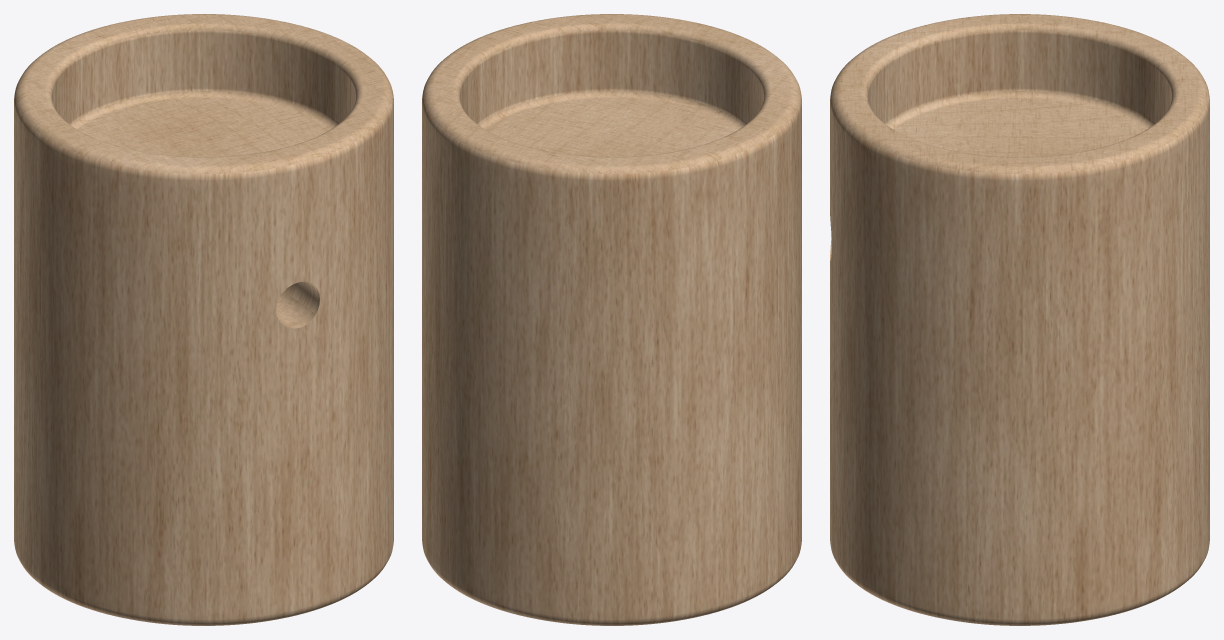
Rendered from rook-white-hd.glb.
3 renders of one model, left to right at view 1: azimuth 30°, elevation 25°; view 2: azimuth 150°, elevation 25°; view 3: azimuth 270°, elevation 25°, orthographic.
Parts seen in each view (by area): view 1: Cylindra_Věž_bílý; view 2: Cylindra_Věž_bílý; view 3: Cylindra_Věž_bílý.
Boxes of the visible parts, left/top/right/bottom form: Cylindra_Věž_bílý: left=14, top=14, right=393, bottom=625; Cylindra_Věž_bílý: left=422, top=14, right=801, bottom=625; Cylindra_Věž_bílý: left=830, top=14, right=1209, bottom=625.
Bounding box in the file's own units: 0.5325 × 0.71 × 0.5325.
Materials: 2 (2 with a texture image).
